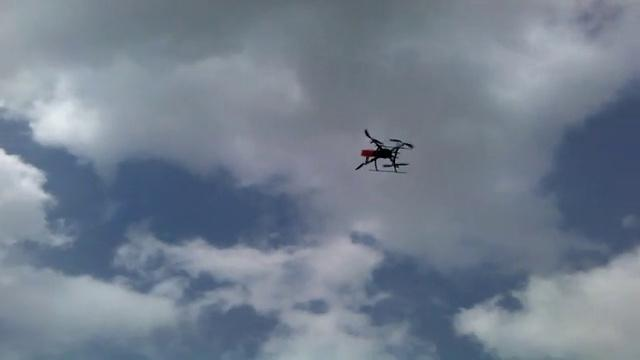drone: (352, 128, 415, 174)
